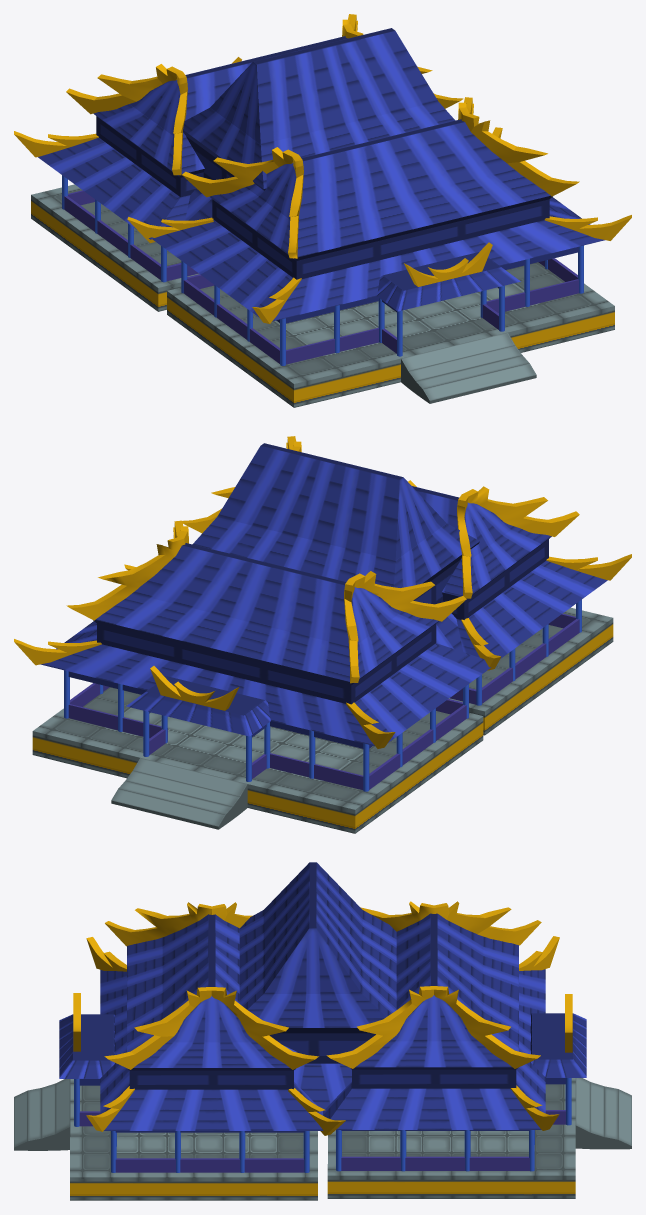
The model's file is Seiryu Building.fbx.
3 views of the same model, one above another, from view 1: azimuth 30°, elevation 25°; view 2: azimuth 150°, elevation 25°; view 3: azimuth 270°, elevation 25° (orthographic). The views are drawn at different scales.
Visible parts, largest first — view 1: Plane.002, Cube.009, Plane.007, Plane.006, Cube.002, Cube.015, Cube.011, Plane.001, Cube.026, Cube.014, Cube.010, Cube.021 (+4 smaller); view 2: Plane.006, Cube.002, Plane.007, Plane.002, Cube.009, Cube.026, Cube.021, Plane.005, Cube.015, Cube.020, Cube.011, Cube.025 (+4 smaller); view 3: Plane.006, Plane.002, Plane.007, Cube.009, Cube.002, Cube.026, Cube.015, Plane.001, Plane.005, Cube.011, Cube.021, Cube.014 (+4 smaller).
Part boxes in pixels (box(x1,y1,x2,y2)): Plane.002: box(152, 119, 605, 321); Cube.009: box(167, 262, 614, 407); Plane.007: box(183, 28, 455, 220); Plane.006: box(38, 36, 347, 239); Cube.002: box(31, 184, 198, 311); Cube.015: box(182, 97, 579, 258); Cube.011: box(183, 258, 578, 364); Plane.001: box(377, 252, 520, 311); Cube.026: box(66, 14, 463, 175); Cube.014: box(127, 127, 631, 323); Cube.010: box(181, 245, 583, 365); Cube.021: box(64, 190, 198, 281); Plane.006: box(40, 543, 490, 745); Cube.002: box(32, 687, 483, 833); Plane.007: box(192, 443, 479, 651); Plane.002: box(412, 486, 607, 658); Cube.009: box(449, 607, 613, 735); Cube.026: box(66, 520, 466, 683); Cube.021: box(68, 683, 466, 789); Plane.005: box(126, 676, 270, 736); Cube.015: box(182, 436, 579, 598); Cube.020: box(64, 670, 468, 791); Cube.011: box(450, 613, 579, 704); Cube.025: box(14, 639, 395, 748); Plane.006: box(323, 913, 545, 1129); Plane.002: box(100, 914, 323, 1130); Plane.007: box(239, 862, 396, 1110); Cube.009: box(14, 1079, 317, 1200); Cube.002: box(327, 1078, 631, 1198); Cube.026: box(326, 901, 541, 1068); Cube.015: box(104, 902, 318, 1069); Plane.001: box(59, 1014, 114, 1078); Plane.005: box(531, 1013, 586, 1077); Cube.011: box(79, 1111, 304, 1172); Cube.021: box(341, 1110, 565, 1170); Cube.014: box(86, 937, 345, 1135).
Bounding box in the file's own units: 2223 × 1304 × 3207.
